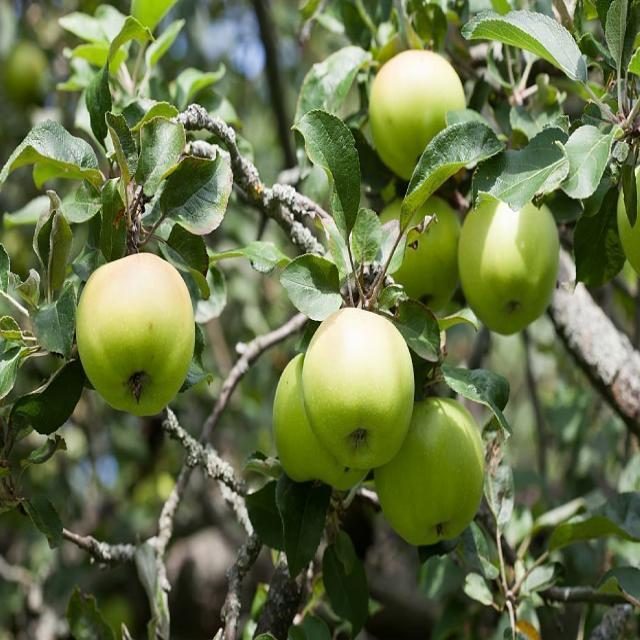Green Apple: (81, 253, 188, 432), (306, 315, 411, 473), (382, 405, 483, 543), (270, 355, 361, 502), (365, 42, 462, 171), (370, 189, 466, 317), (466, 196, 560, 321), (616, 139, 640, 294)
